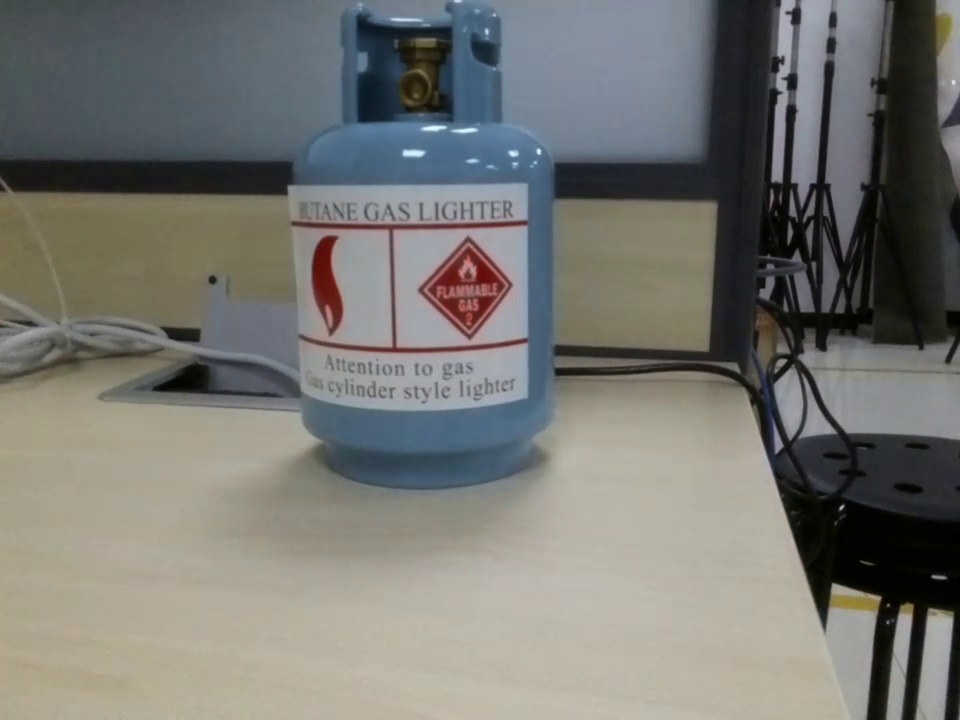gas tank: (279, 3, 568, 489)
